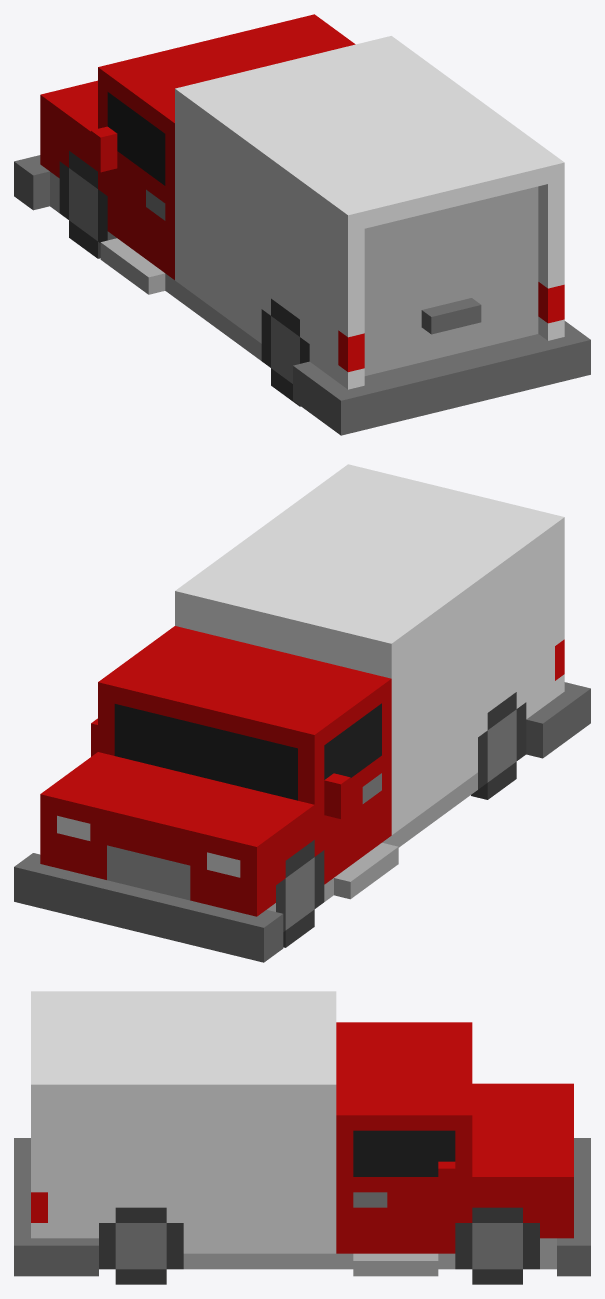
Rendered from veh_truck1.obj.
3 views of the same model, one above another, from view 1: azimuth 30°, elevation 25°; view 2: azimuth 150°, elevation 25°; view 3: azimuth 270°, elevation 25° (orthographic). The views are drawn at different scales.
Size of the model in its own units: 1.5 by 1.3 by 3.4.
1 material, 1 textured.
